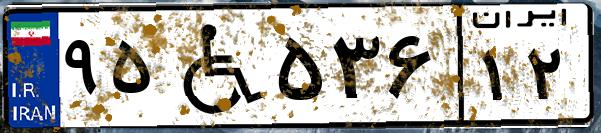1: (475, 38, 525, 113)
2: (525, 38, 570, 115)
3: (330, 28, 385, 110)
5: (270, 28, 330, 110), (110, 28, 158, 98)
6: (385, 28, 445, 110)
9: (57, 26, 110, 100)
ژ (معلولین و جانبازان): (158, 12, 270, 120)
